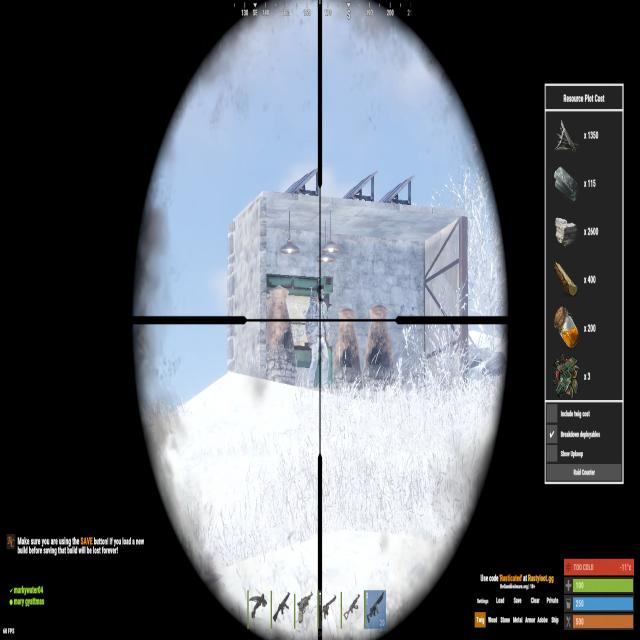Player: (305, 284, 331, 397)
